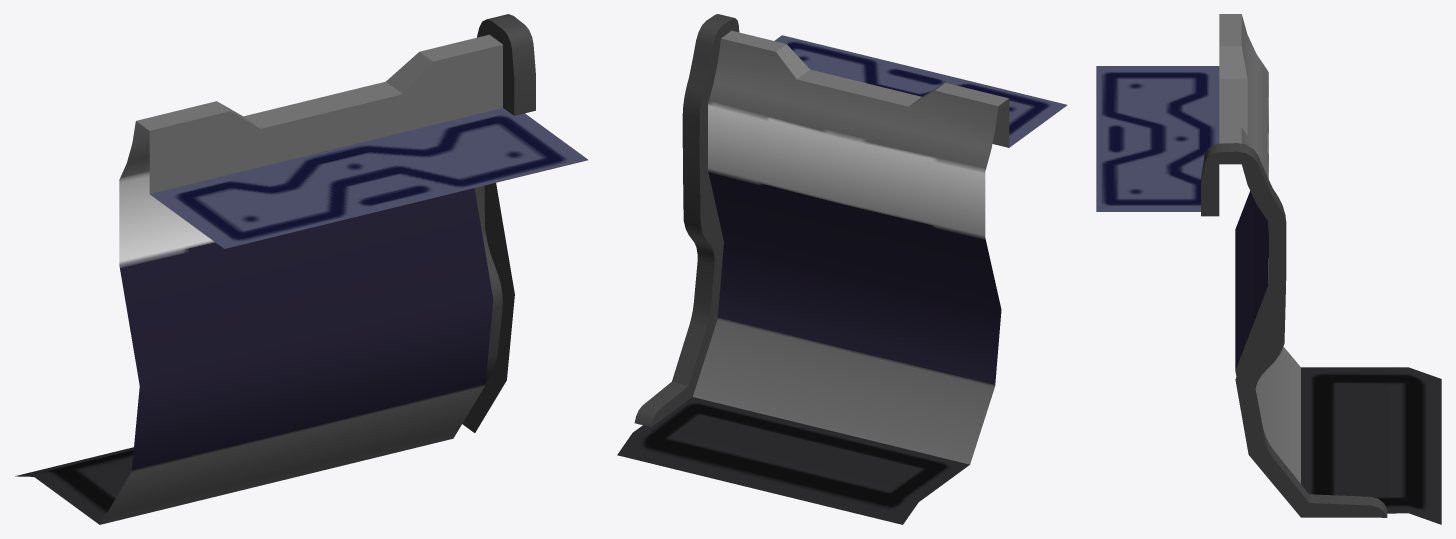
Rendered from wall_small.glb.
3 views of the same model, side by side, from view 1: azimuth 30°, elevation 25°; view 2: azimuth 150°, elevation 25°; view 3: azimuth 270°, elevation 25° (orthographic). The views are drawn at different scales.
Parts seen in each view (by area): view 1: structural_wall-A; view 2: structural_wall-A; view 3: structural_wall-A.
Boxes of the visible parts, <box> form: structural_wall-A: <box>15,14,588,524</box>; structural_wall-A: <box>617,14,1067,524</box>; structural_wall-A: <box>1096,14,1441,524</box>.
Size of the model in its own units: 2.06 by 2.41 by 2.
Materials: 1 (1 with a texture image).
